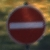No entry: (6, 5, 45, 45)
